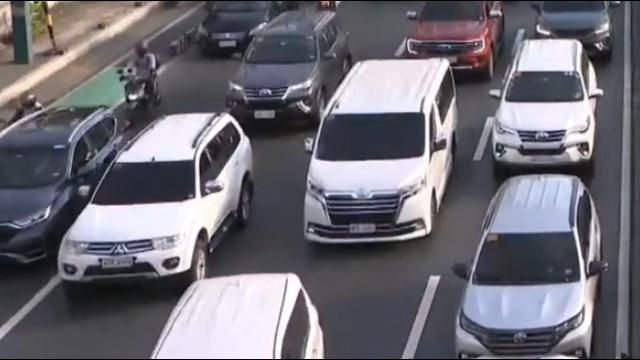car: (56, 117, 257, 301), (452, 172, 599, 360), (0, 107, 130, 267), (484, 38, 604, 183), (146, 272, 328, 360), (233, 12, 348, 122), (407, 0, 507, 79), (196, 0, 288, 57), (531, 0, 618, 57)
motorcycle: (118, 39, 160, 128), (6, 91, 50, 132)
van: (301, 58, 458, 248)
